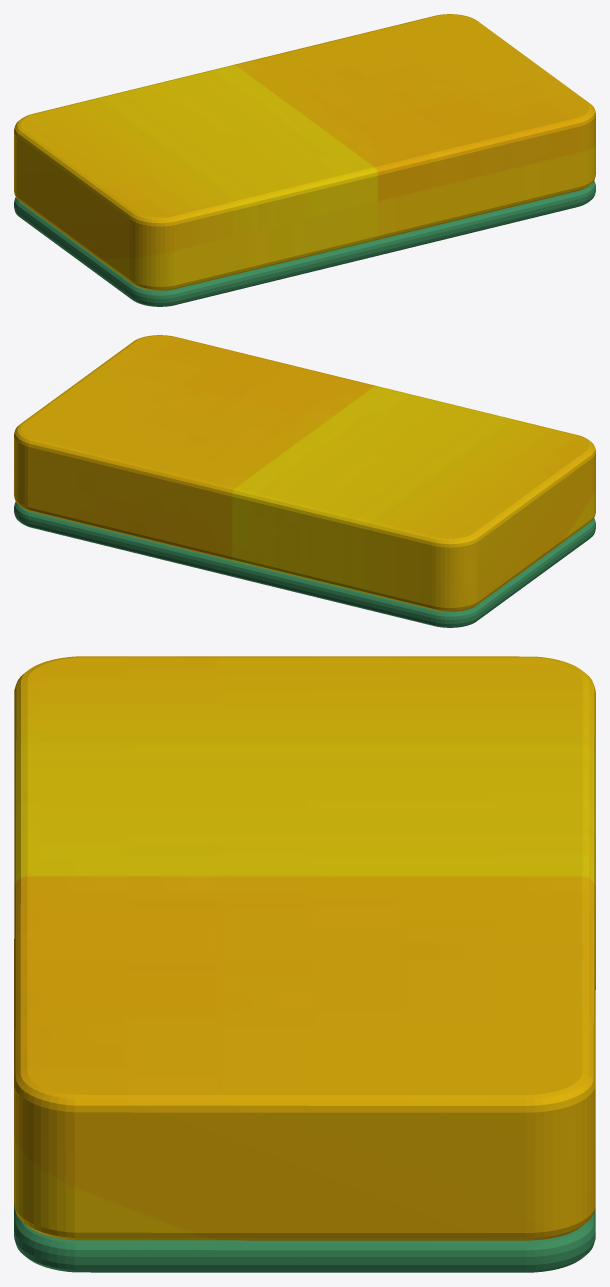
The model's file is sink_faucet__counter_sponge.glb.
The picture shows the model from 3 angles, top to bottom: view 1: azimuth 30°, elevation 25°; view 2: azimuth 150°, elevation 25°; view 3: azimuth 270°, elevation 25°; orthographic projection. The views are drawn at different scales.
Parts seen in each view (by area): view 1: sponge; view 2: sponge; view 3: sponge.
Boxes of the visible parts, x1,y1,x2,y2 form: sponge: [14, 14, 595, 306]; sponge: [14, 335, 595, 627]; sponge: [14, 656, 595, 1272].
Size of the model in its own units: 0.12 by 0.022 by 0.0658.
2 materials, 1 textured.
